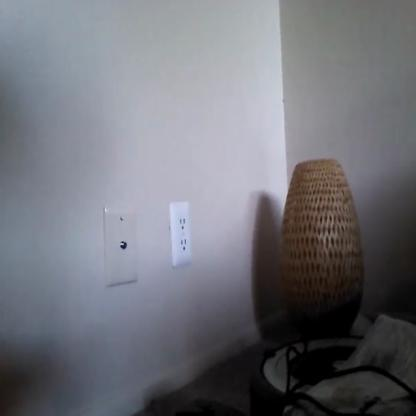OUTLET: (170, 202, 192, 268)
